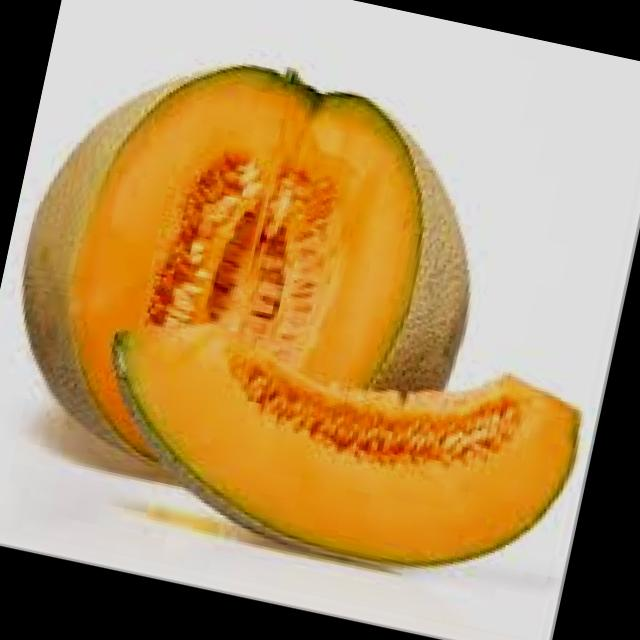cantaloupe: (0, 20, 511, 523), (81, 293, 592, 601)
